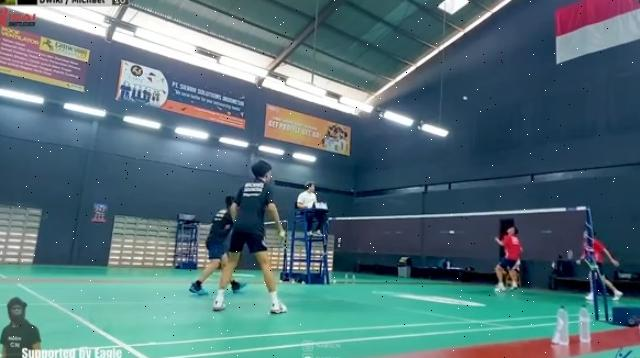Shuttlecock: (462, 94, 472, 104)
